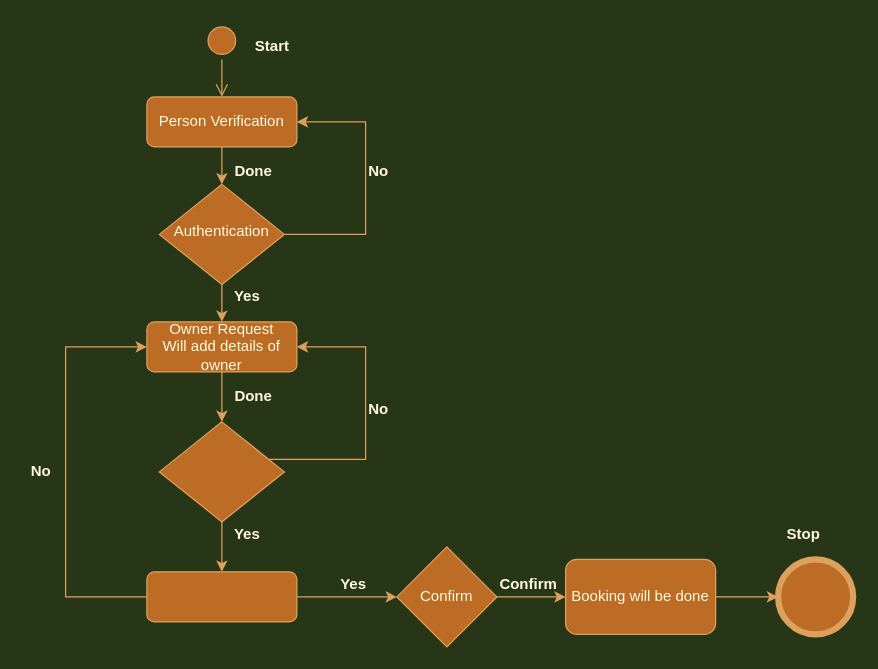
Image size: 878x669. Some labels were removed from this diagram. Each missing label, with the box of its shape:
Request: (158, 421, 284, 522)
Will given the visiting slot with details: (146, 571, 297, 622)
